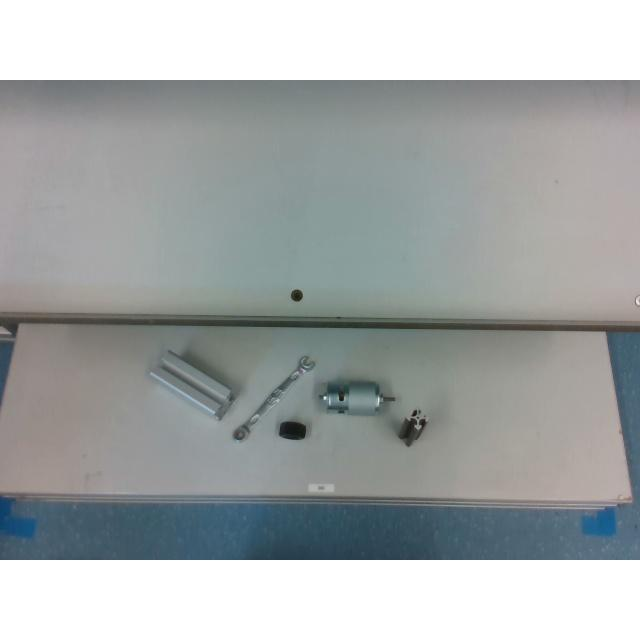F20_20_B: (398, 409, 428, 446)
M20: (278, 420, 306, 440)
Motor2: (321, 382, 395, 414)
S40_40_G: (148, 350, 235, 420)
Wrench: (232, 355, 316, 441)
